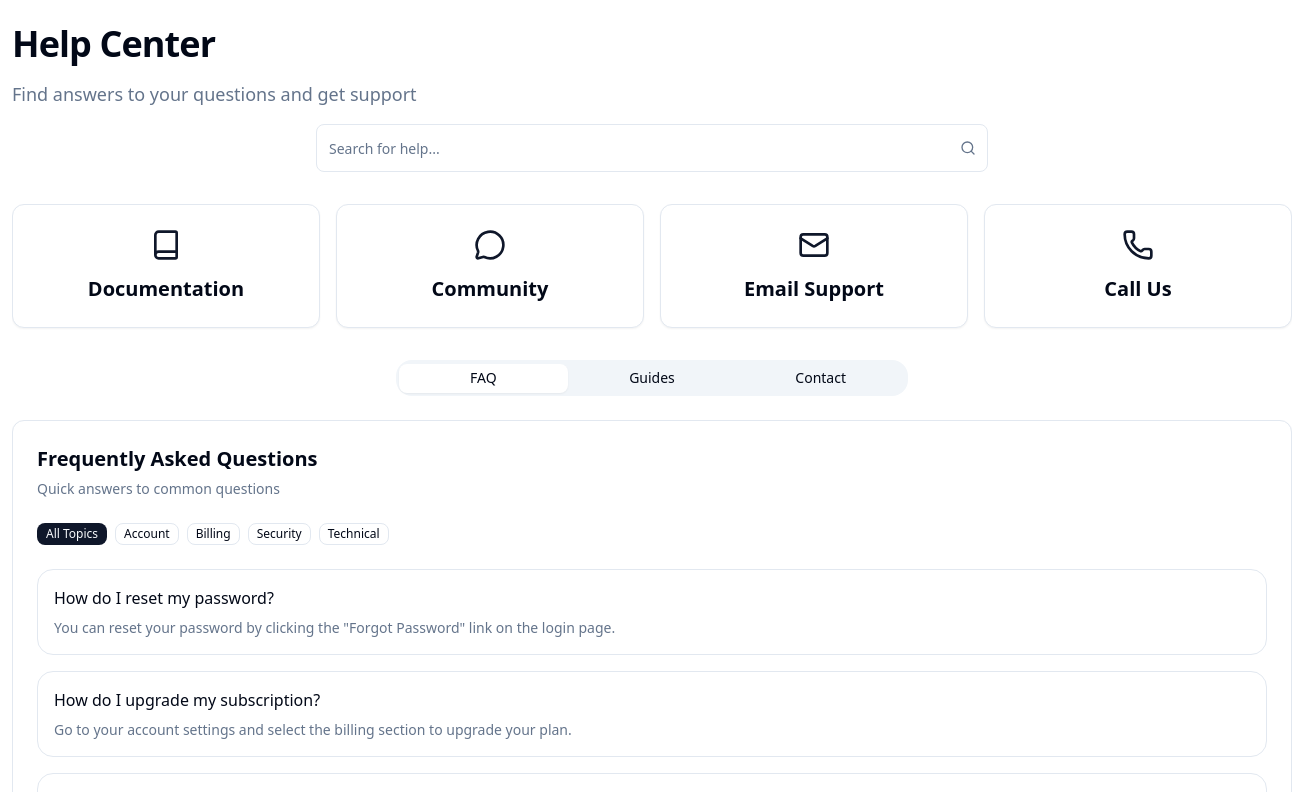
Test: HelpPage › switches to contact tab and shows contact information
This screenshot has width=1292, height=792.
Step 1. Click the tab "Contact" → (821, 378), box [736,364,905,392]
(page scrolled)
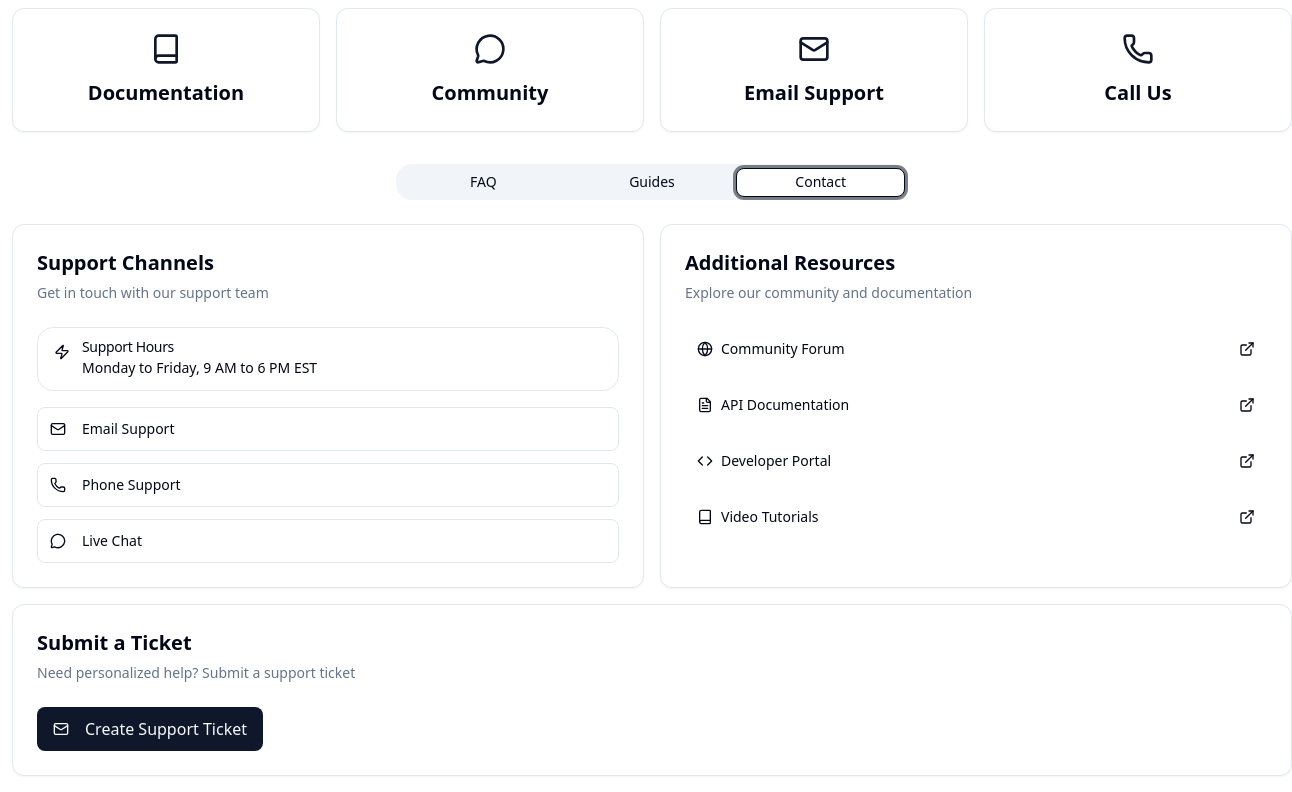
Result: the text "Support Channels" is shown at [37,249,214,276]
Result: the text "Get in touch with our support team" is shown at [37,283,269,302]
Result: the heading "Support Hours" is shown at [82,337,174,356]
